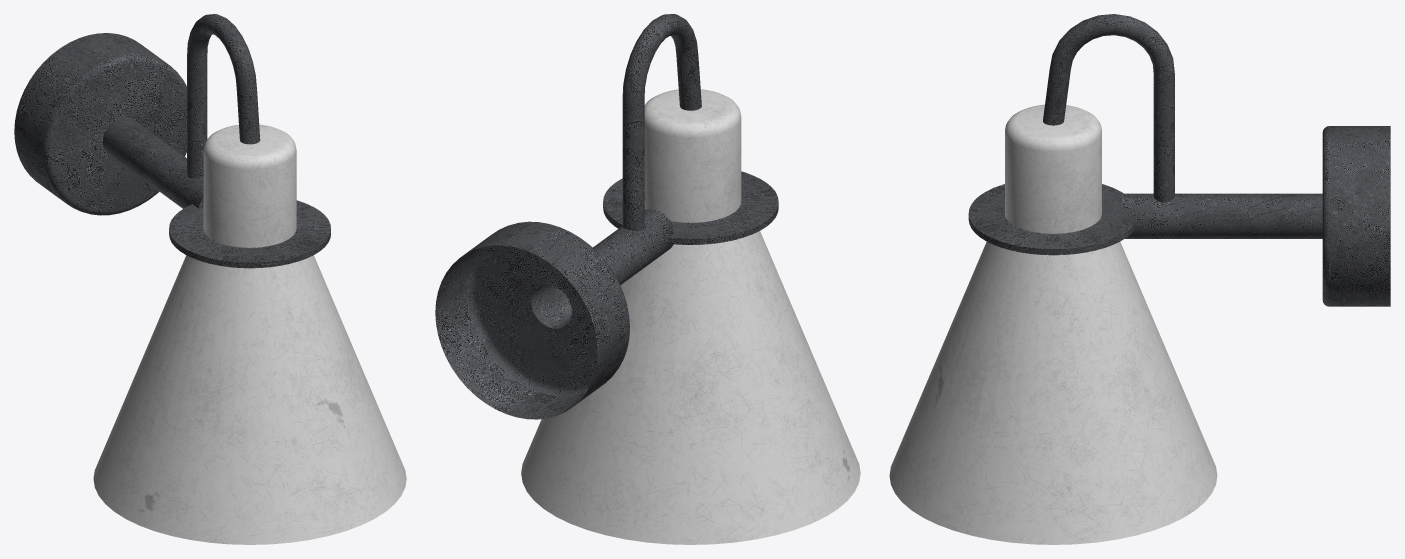
File: WallLamp.glb
3 views of the same model, side by side, from view 1: azimuth 30°, elevation 25°; view 2: azimuth 150°, elevation 25°; view 3: azimuth 270°, elevation 25° (orthographic). The views are drawn at different scales.
Visible parts, largest first — view 1: argon_4704.002, argon_4704; view 2: argon_4704.002, argon_4704; view 3: argon_4704.002, argon_4704.
Boxes of the visible parts, x1,y1,x2,y2 form: argon_4704.002: (93,124,406,544); argon_4704: (14,14,330,268); argon_4704.002: (521,89,860,544); argon_4704: (435,14,778,419); argon_4704.002: (889,104,1217,544); argon_4704: (968,14,1390,306).
Bounding box in the file's own units: 0.145 × 0.2247 × 0.2215.
Materials: 3 (3 with a texture image).
